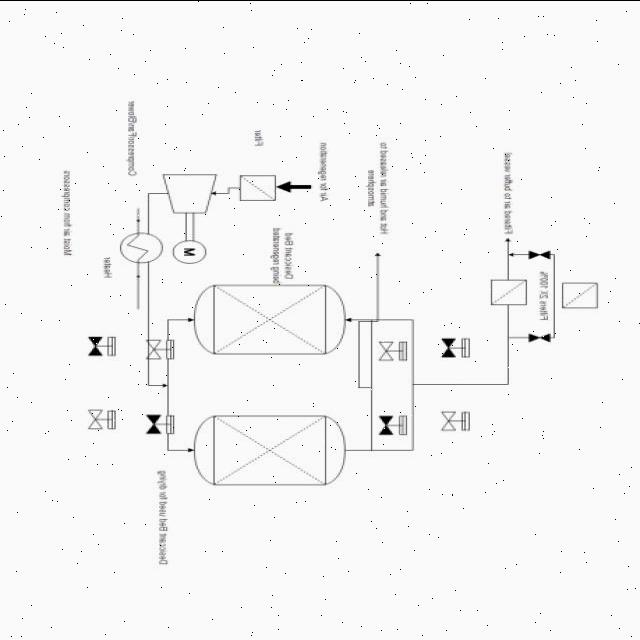Bleeder Valve: (526, 242, 554, 259), (526, 328, 554, 343)
Rotary Piston-Pneumatic Closed Gate Valve: (78, 323, 126, 366), (438, 333, 494, 365), (142, 408, 180, 438), (380, 411, 410, 442)
Rotary Piston-Pneumatic Gate Valve: (431, 404, 483, 439), (82, 404, 132, 438), (375, 336, 412, 369), (140, 338, 180, 364)
